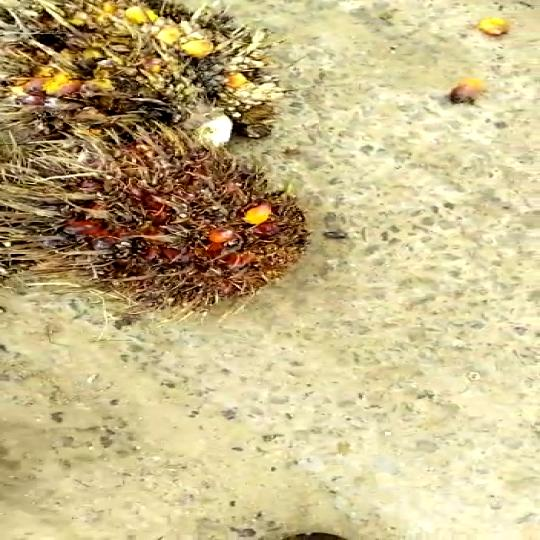terlalu masak: (0, 122, 318, 326)
